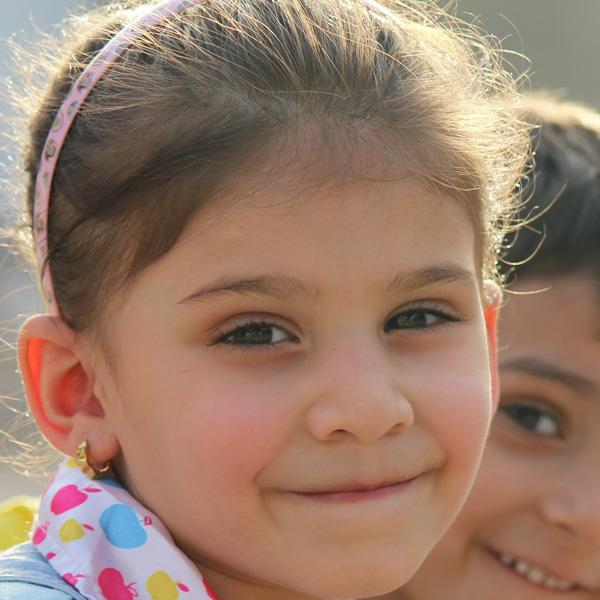Eyes: (201, 304, 312, 366), (375, 291, 469, 345), (492, 387, 569, 446)
